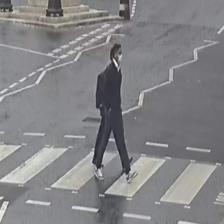person: (92, 44, 138, 184)
